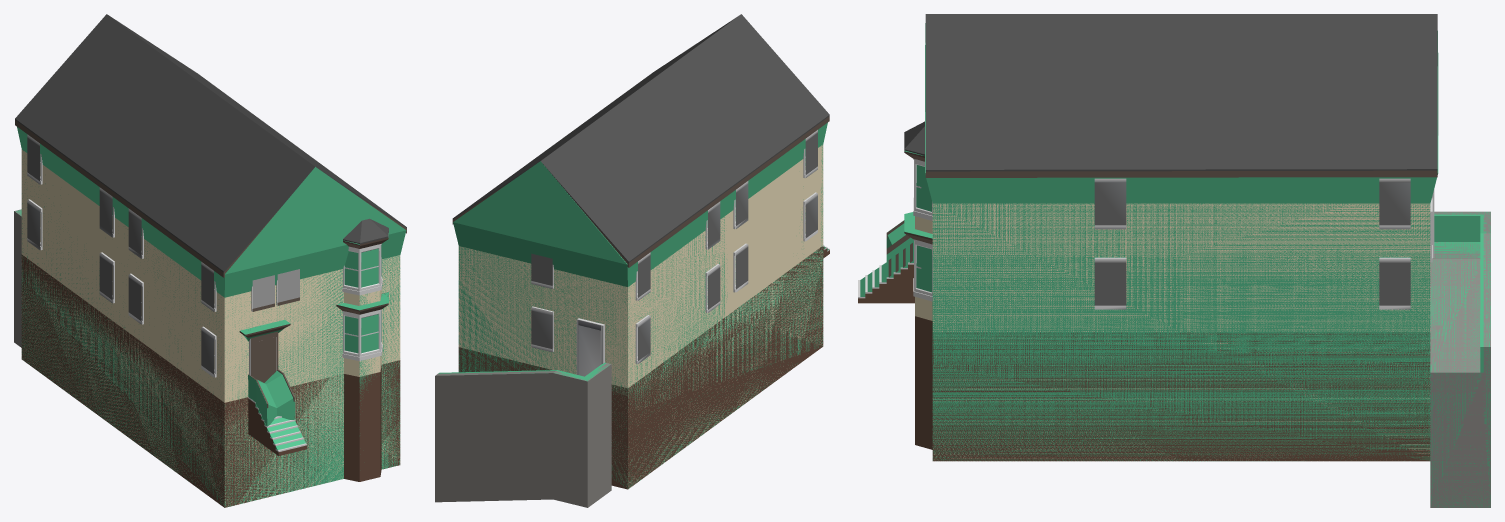
The model's file is eca_bld_house_05_e.dae.
The picture shows the model from 3 angles, left to right: view 1: azimuth 30°, elevation 25°; view 2: azimuth 150°, elevation 25°; view 3: azimuth 270°, elevation 25°; orthographic projection. The views are drawn at different scales.
Visible parts, largest first — view 1: ind_bld_a100, Colmesh-1, ind_bld_a60, ind_bld_a400; view 2: ind_bld_a100, Colmesh-1, ind_bld_a400, ind_bld_a60; view 3: ind_bld_a100, Colmesh-1, ind_bld_a400, ind_bld_a60.
Part boxes in pixels (x1=…): ind_bld_a100: x1=14, y1=14, x2=406, y2=507; Colmesh-1: x1=14, y1=127, x2=406, y2=507; ind_bld_a60: x1=21, y1=151, x2=400, y2=505; ind_bld_a400: x1=21, y1=150, x2=399, y2=451; ind_bld_a100: x1=435, y1=14, x2=829, y2=507; Colmesh-1: x1=438, y1=122, x2=828, y2=488; ind_bld_a400: x1=459, y1=145, x2=829, y2=386; ind_bld_a60: x1=459, y1=148, x2=823, y2=488; ind_bld_a100: x1=858, y1=14, x2=1490, y2=507; Colmesh-1: x1=860, y1=23, x2=1490, y2=507; ind_bld_a400: x1=858, y1=159, x2=1434, y2=331; ind_bld_a60: x1=933, y1=204, x2=1430, y2=459.
Size of the model in its own units: 7.29 by 17.8 by 13.7.
